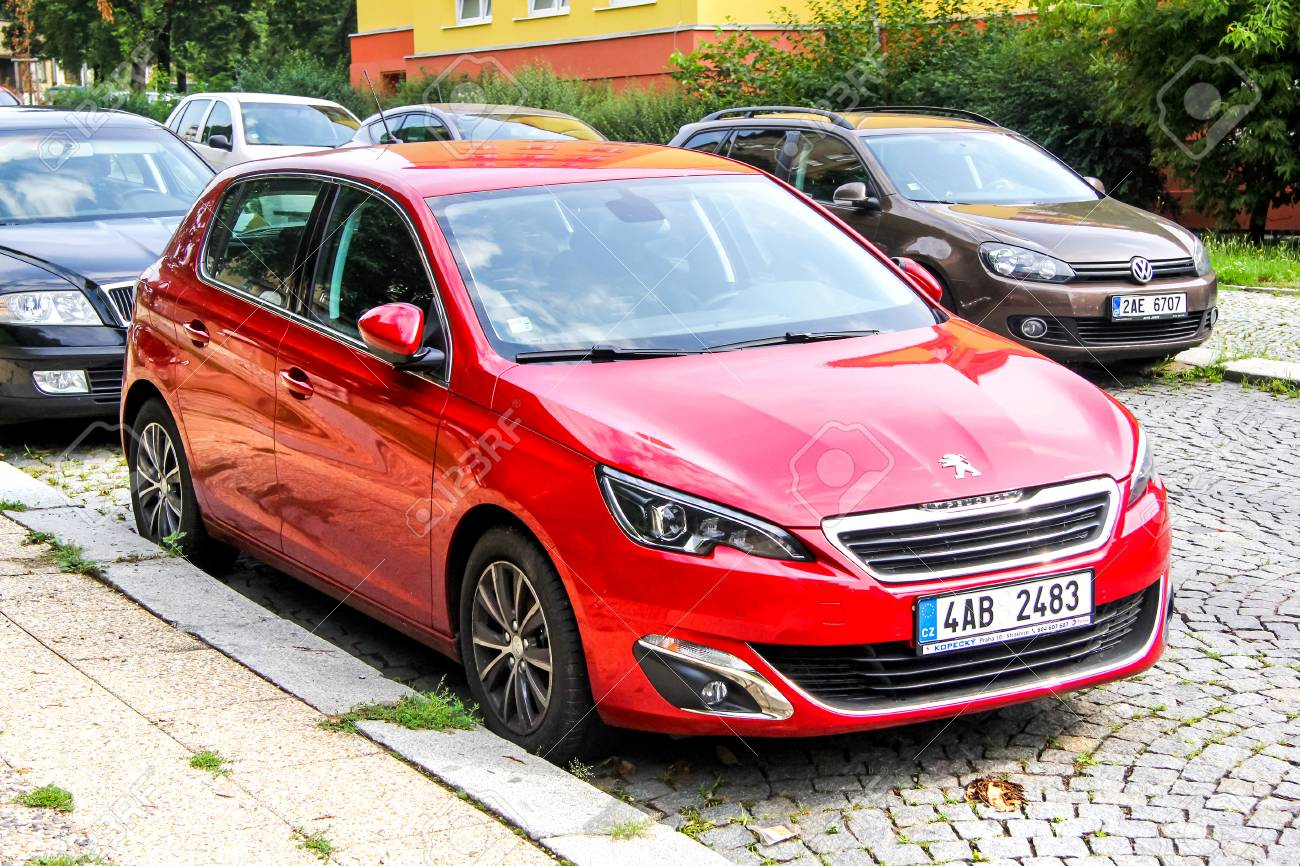car: (124, 141, 1173, 729), (657, 104, 1216, 364), (1, 108, 236, 414), (157, 82, 361, 177), (342, 90, 618, 155)
